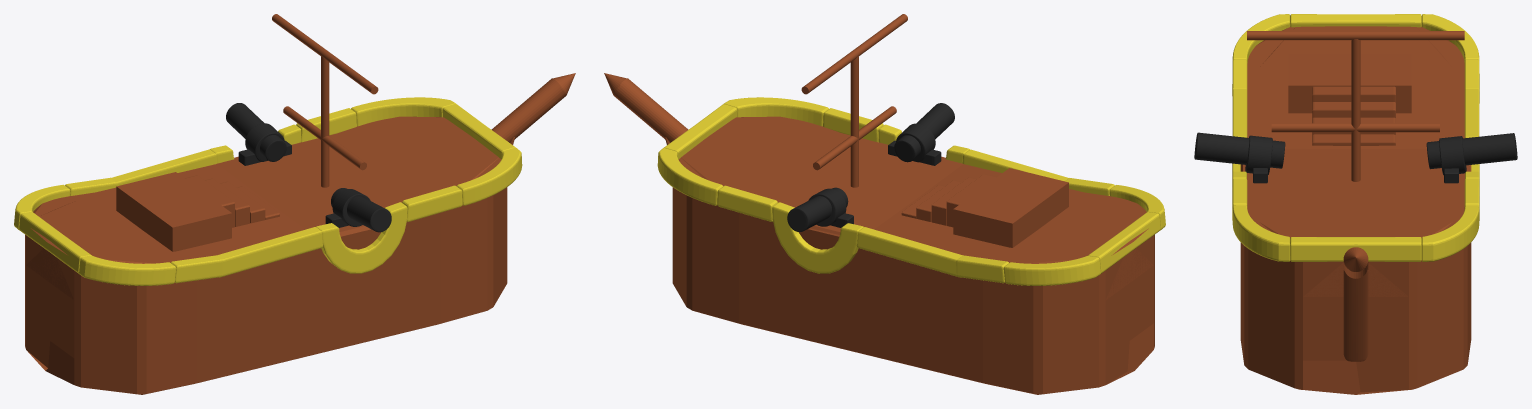
Rendered from ship.fbx.
3 views of the same model, side by side, from view 1: azimuth 30°, elevation 25°; view 2: azimuth 150°, elevation 25°; view 3: azimuth 270°, elevation 25° (orthographic). The views are drawn at different scales.
Visible parts, largest first — view 1: ShipBody; view 2: ShipBody; view 3: ShipBody.
Boxes of the visible parts, x1,y1,x2,y2 form: ShipBody: (14, 14, 575, 394); ShipBody: (604, 14, 1165, 394); ShipBody: (1194, 14, 1517, 394).
Bounding box in the file's own units: 16.06 × 7.72 × 7.3.
